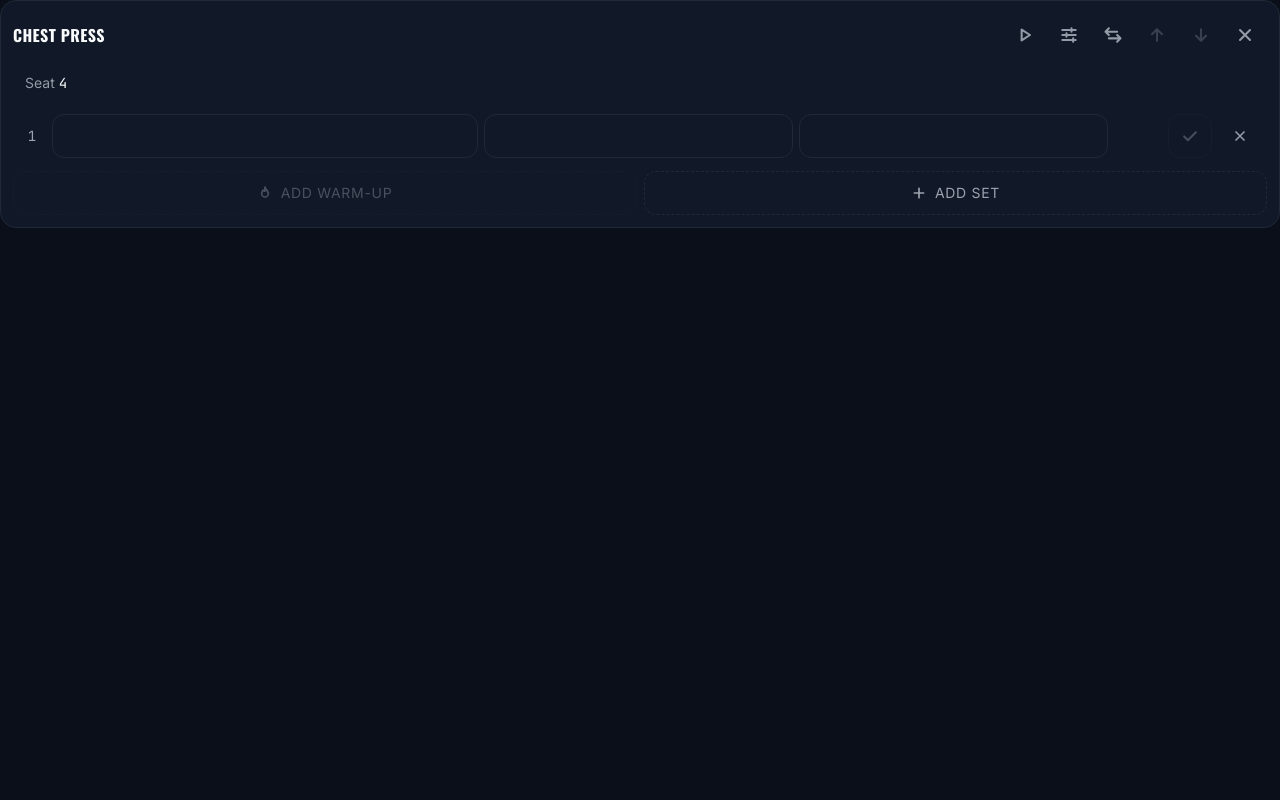
Scenario: machine setup on the exercise card › save unsupported (canSave false): read-only fields, notice, disabled save, nothing written
Expected: the element with test id "exercise-setup" is shown, [13, 65, 1267, 101]
Click the button with test id "edit-setup".
click(1069, 35)  # box [1047, 13, 1091, 57]
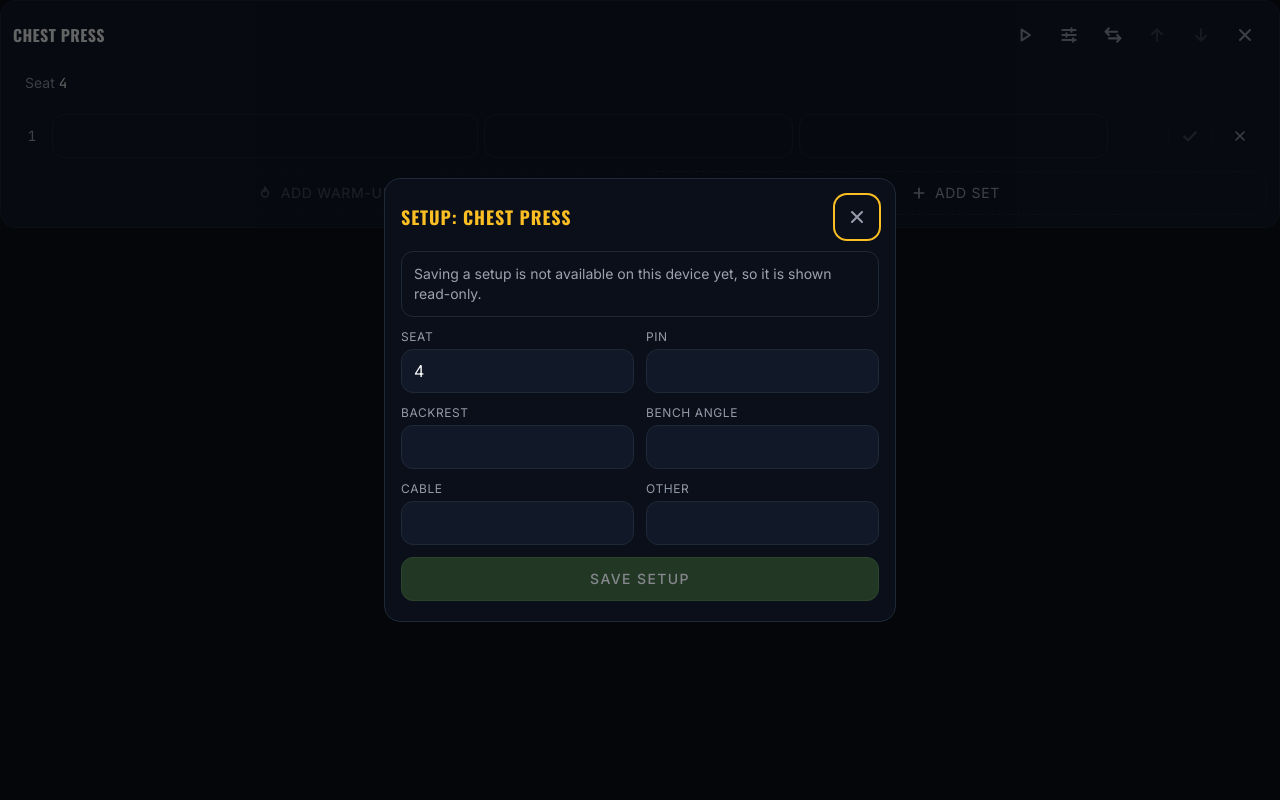
Expected: the message with test id "setup-readonly" shows "not available on this device", [414, 265, 832, 302]
Expected: the button with test id "setup-save" is disabled, [401, 557, 879, 601]
Submit the form with test id "setup-seat", box [401, 251, 879, 605]
Press Escape
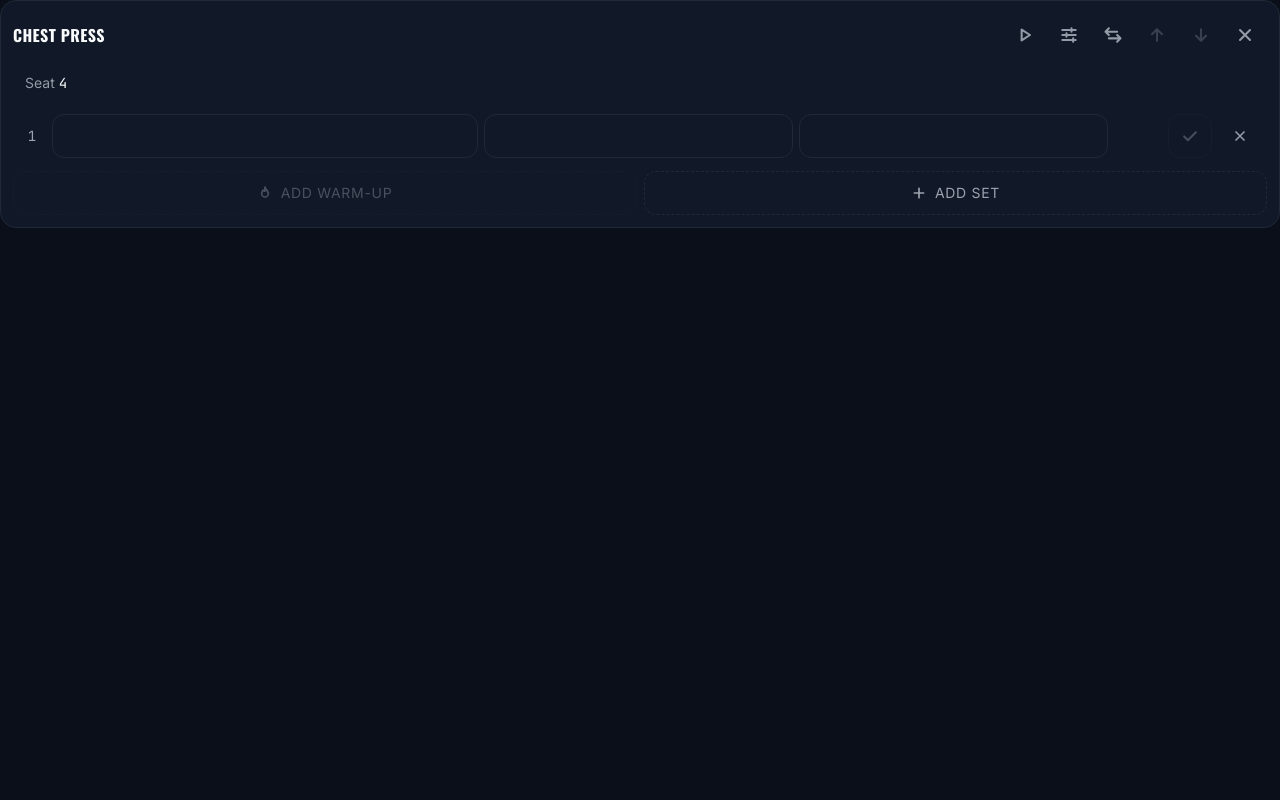
Expected: the dialog with test id "setup-sheet" is gone
